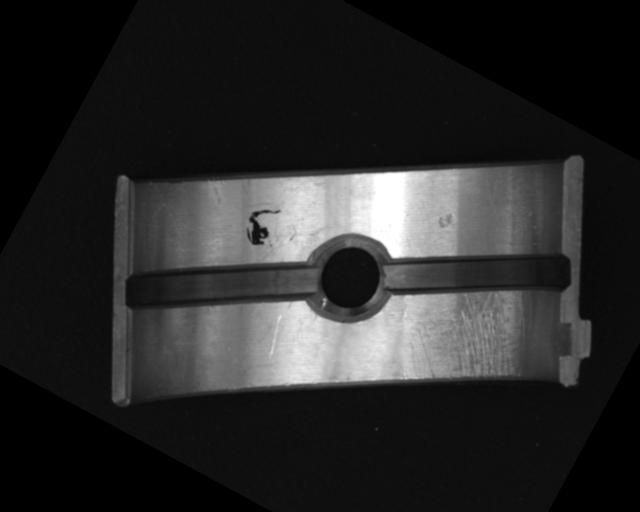blot: (235, 196, 285, 252)
bruise: (433, 206, 460, 233)
gap: (112, 192, 320, 379), (380, 185, 578, 360)
hole: (290, 218, 405, 336)
nick: (258, 314, 291, 362)
scratch: (387, 257, 552, 420)
